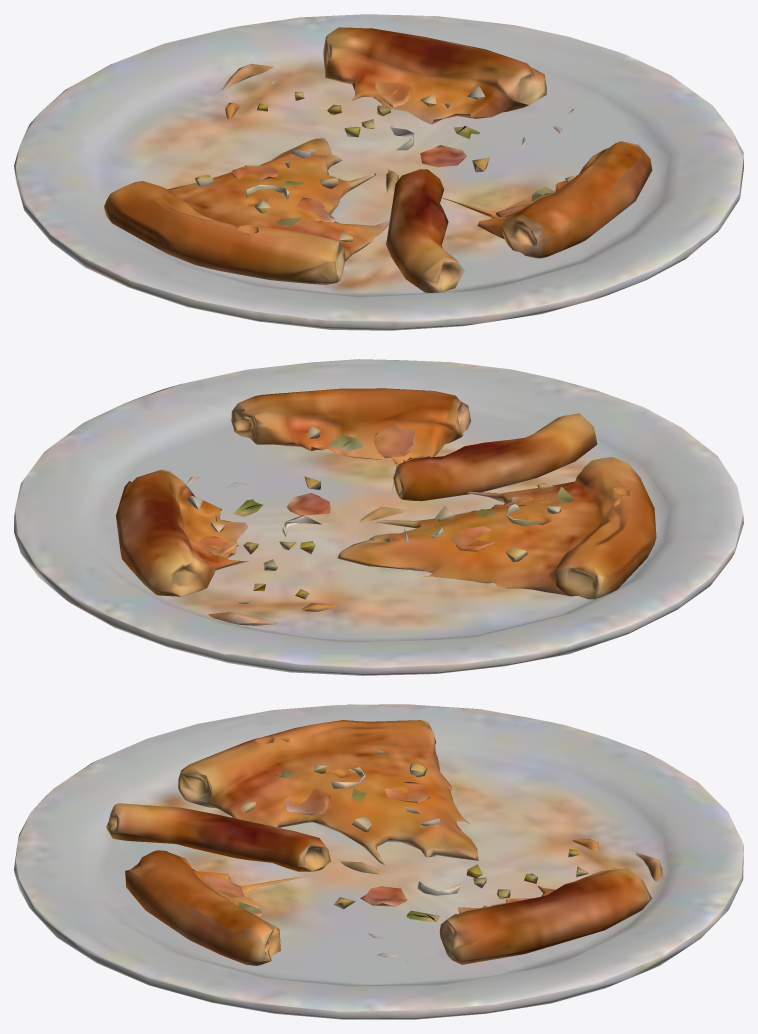
File: SM_Food_Leftover_AO1_N1.glb
3 views of the same model, one above another, from view 1: azimuth 30°, elevation 25°; view 2: azimuth 150°, elevation 25°; view 3: azimuth 270°, elevation 25° (orthographic).
Visible parts, largest first — view 1: SM_Food_Leftover_AO1_N1; view 2: SM_Food_Leftover_AO1_N1; view 3: SM_Food_Leftover_AO1_N1.
Boxes of the visible parts, x1,y1,x2,y2 form: SM_Food_Leftover_AO1_N1: (14, 14, 743, 330); SM_Food_Leftover_AO1_N1: (14, 359, 743, 675); SM_Food_Leftover_AO1_N1: (14, 704, 743, 1019).
Size of the model in its own units: 0.246 by 0.0196 by 0.2466.
Materials: 1 (1 with a texture image).
